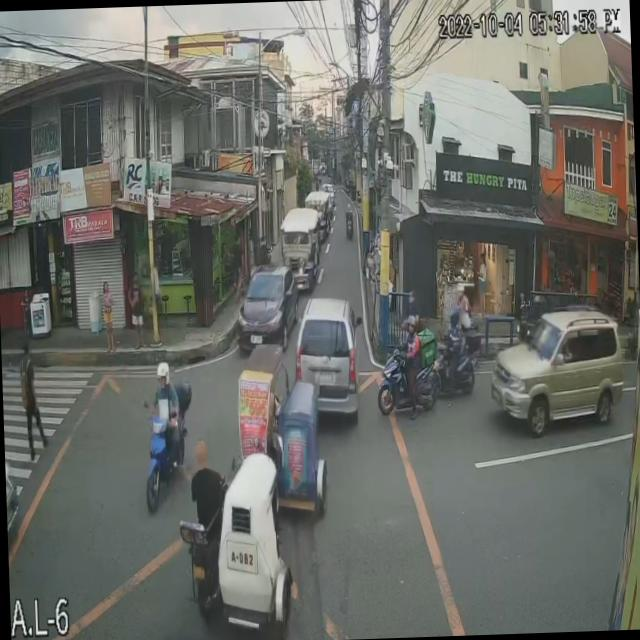half: (156, 361, 170, 388), (448, 309, 460, 328), (406, 315, 416, 336)
